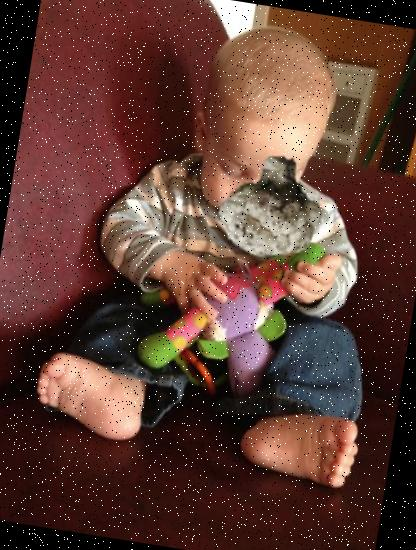Cauliflower: (208, 144, 332, 269)
